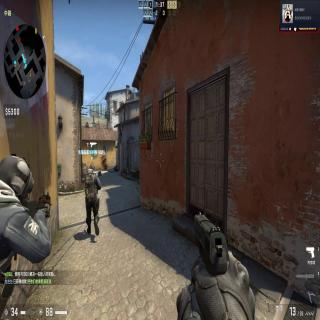CT-Body: (84, 162, 102, 236)
CT-Head: (2, 154, 34, 209), (89, 163, 96, 171)
